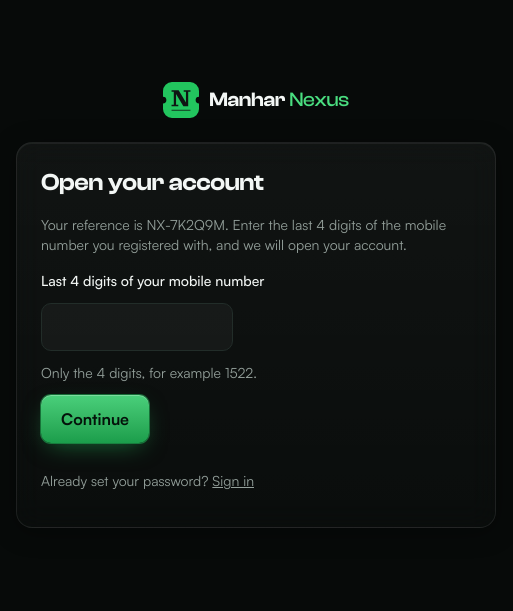
Test: /pay/return › shows "Payment received" as soon as the server says it is paid, even while the account is still being made
Type "1522" into the field labelled "Last 4 digits of your mobile number" at (137, 327), box left=41, top=303, right=233, bottom=351
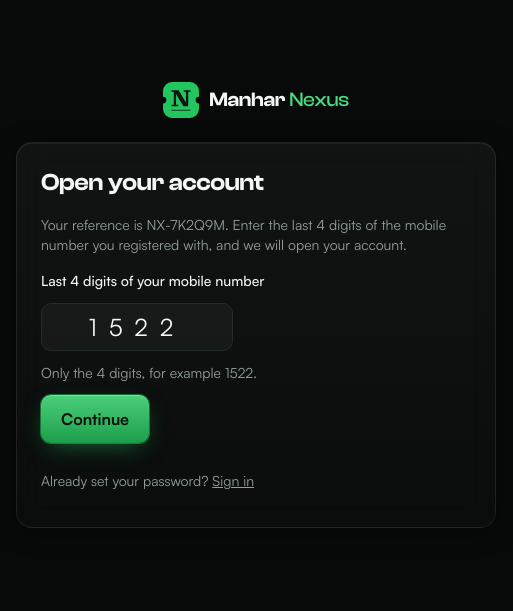
Click the button "Continue" at (95, 419), box left=41, top=395, right=149, bottom=443
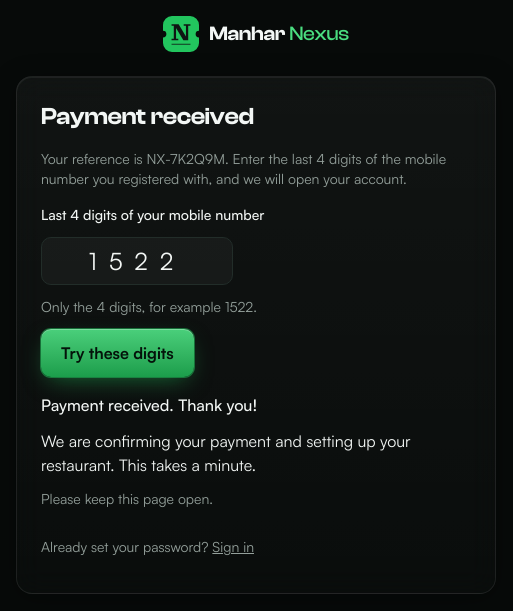
Check: the text "Payment received. Thank you!" is shown, box left=41, top=395, right=257, bottom=415
